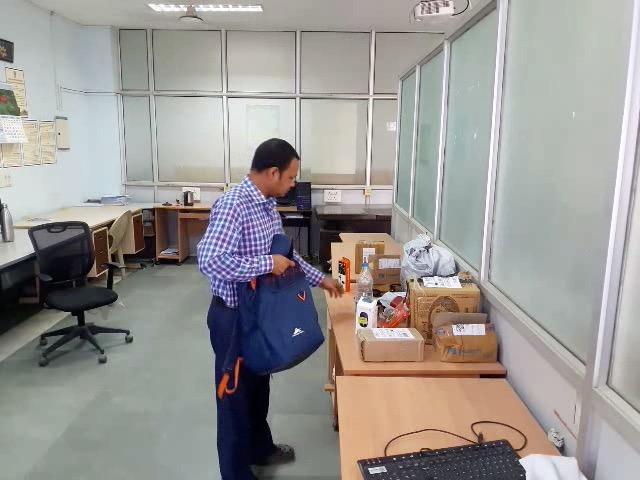shoplifting: (197, 226, 383, 401)
